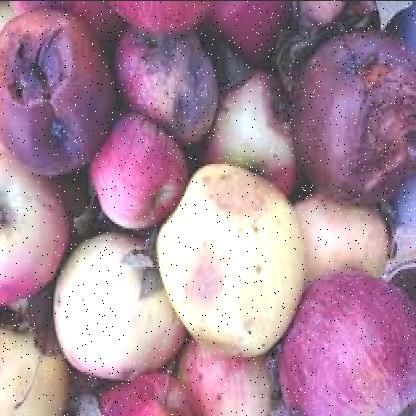damaged_apple: (164, 140, 296, 356), (294, 28, 413, 202), (278, 258, 412, 406), (3, 4, 98, 174), (107, 15, 208, 150), (89, 114, 182, 233)
